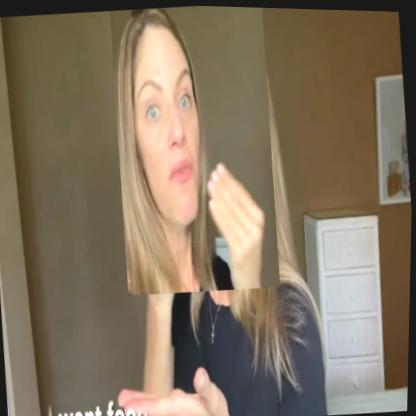Food: (106, 3, 287, 298)
